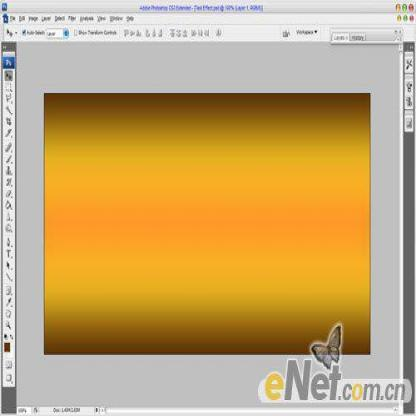other: (52, 127, 359, 280)
